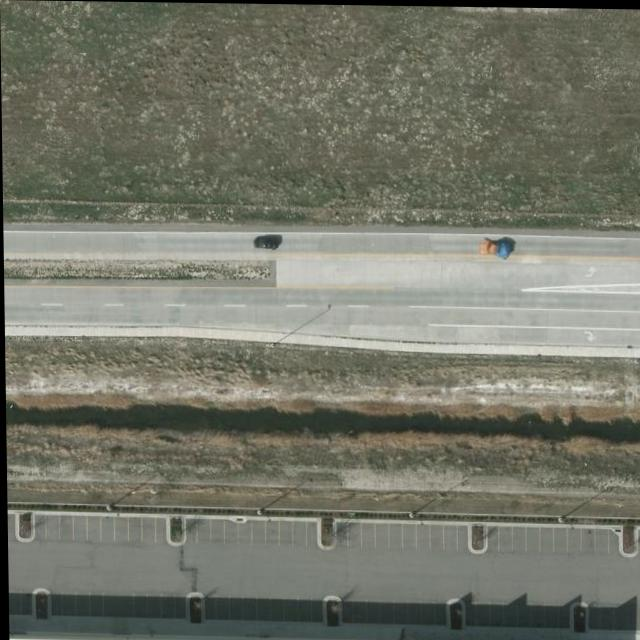vehicle: (479, 238, 510, 257), (252, 237, 278, 248)
